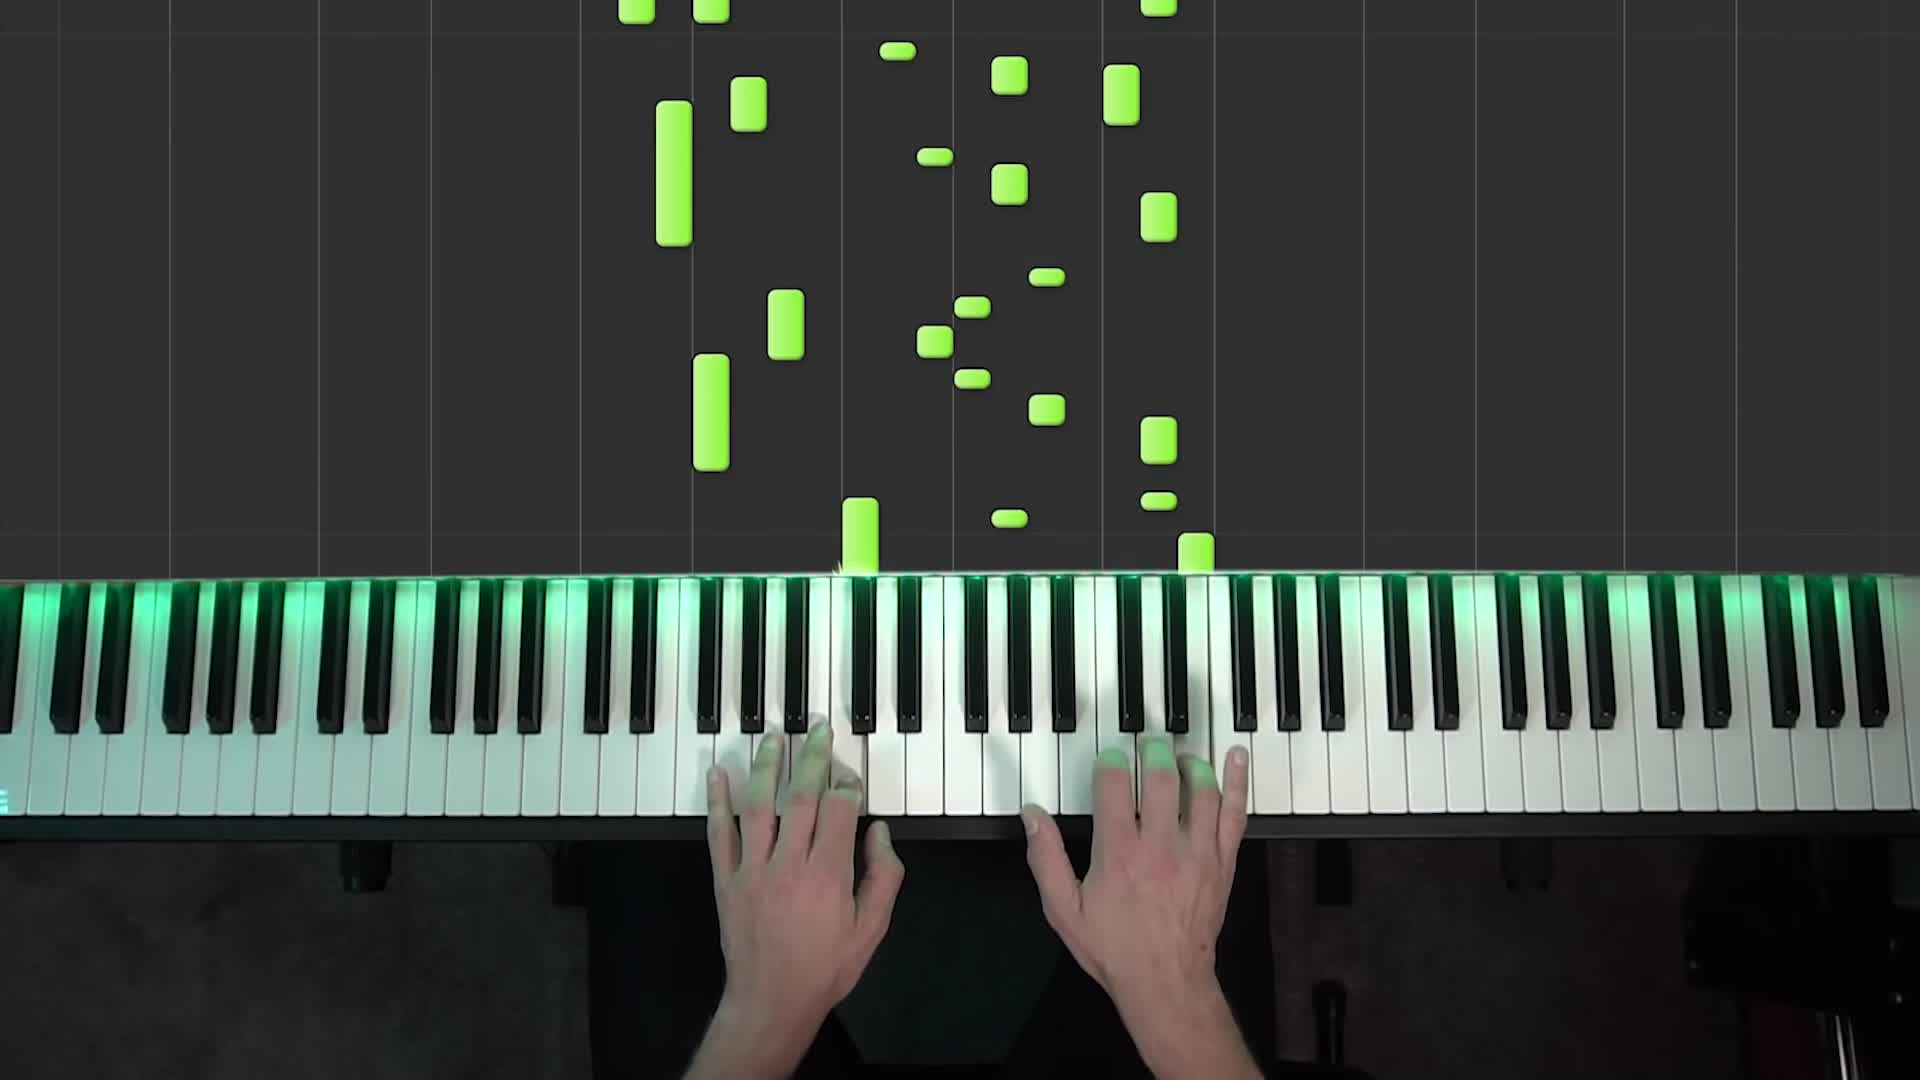left: (703, 719, 902, 984)
right: (1019, 731, 1247, 996)
